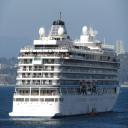cruises: (9, 12, 123, 120)
